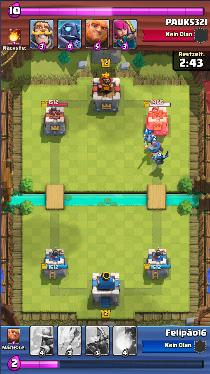ally_knight: (149, 141, 161, 155)
ally_mini_pekka: (153, 152, 168, 166)
ally_minion: (144, 133, 155, 144)
